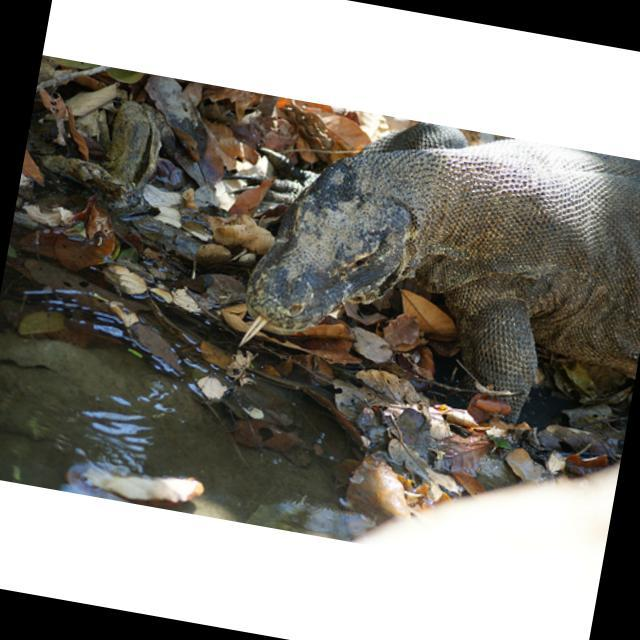KomodoDragon: (229, 96, 640, 445)
